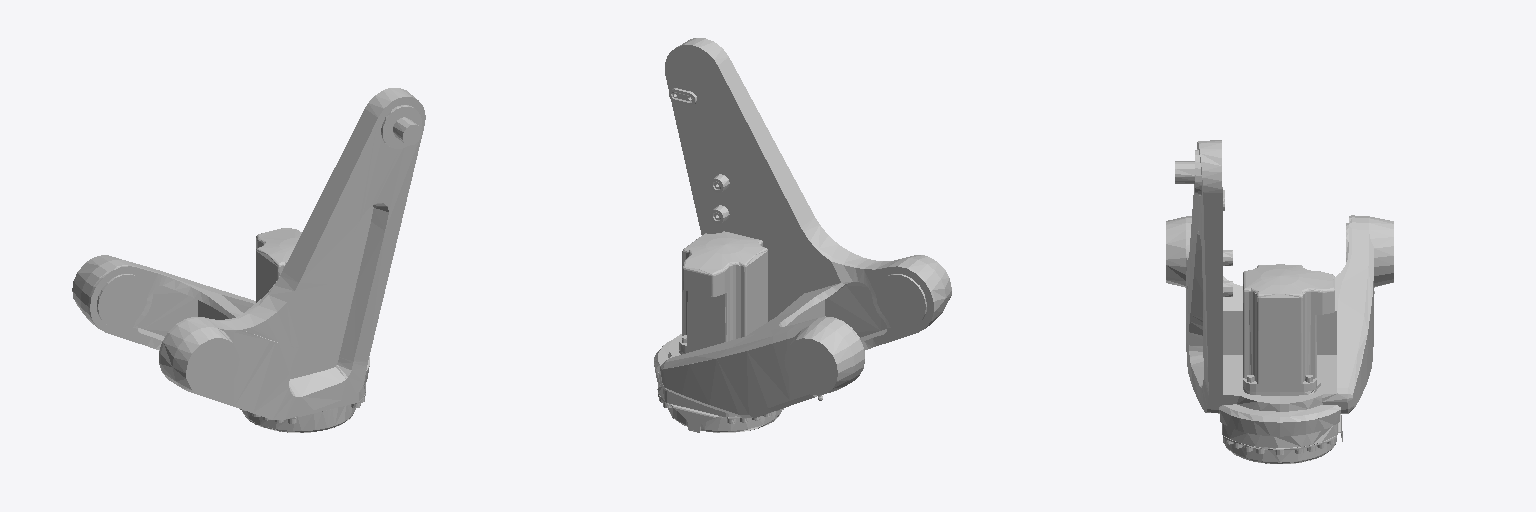
Rendered from irb760_450_318_link3b_cad_00_body1.obj.
3 renders of one model, left to right at view 1: azimuth 30°, elevation 25°; view 2: azimuth 150°, elevation 25°; view 3: azimuth 270°, elevation 25°, orthographic.
Visible parts, largest first — view 1: 0; view 2: 0; view 3: 0.
Boxes of the visible parts, <box> form: 0: <box>72,88,425,432</box>; 0: <box>654,38,951,432</box>; 0: <box>1166,140,1393,463</box>.
Bounding box in the file's own units: 535 × 635 × 400.